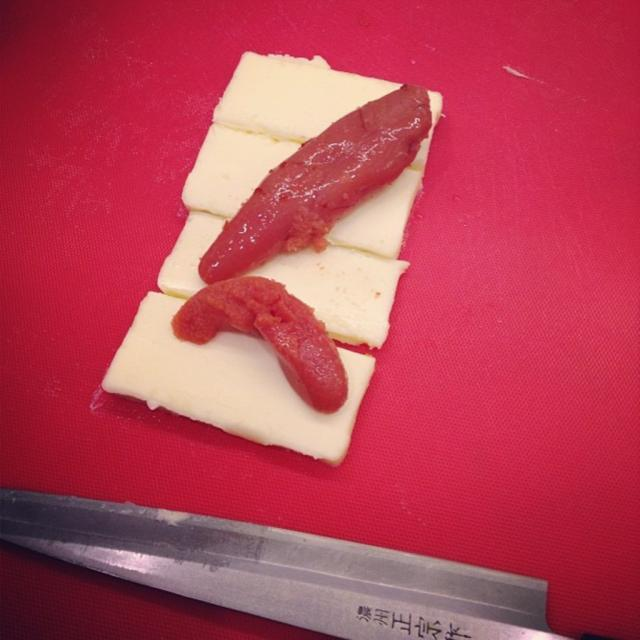Knife: (0, 491, 572, 639)
